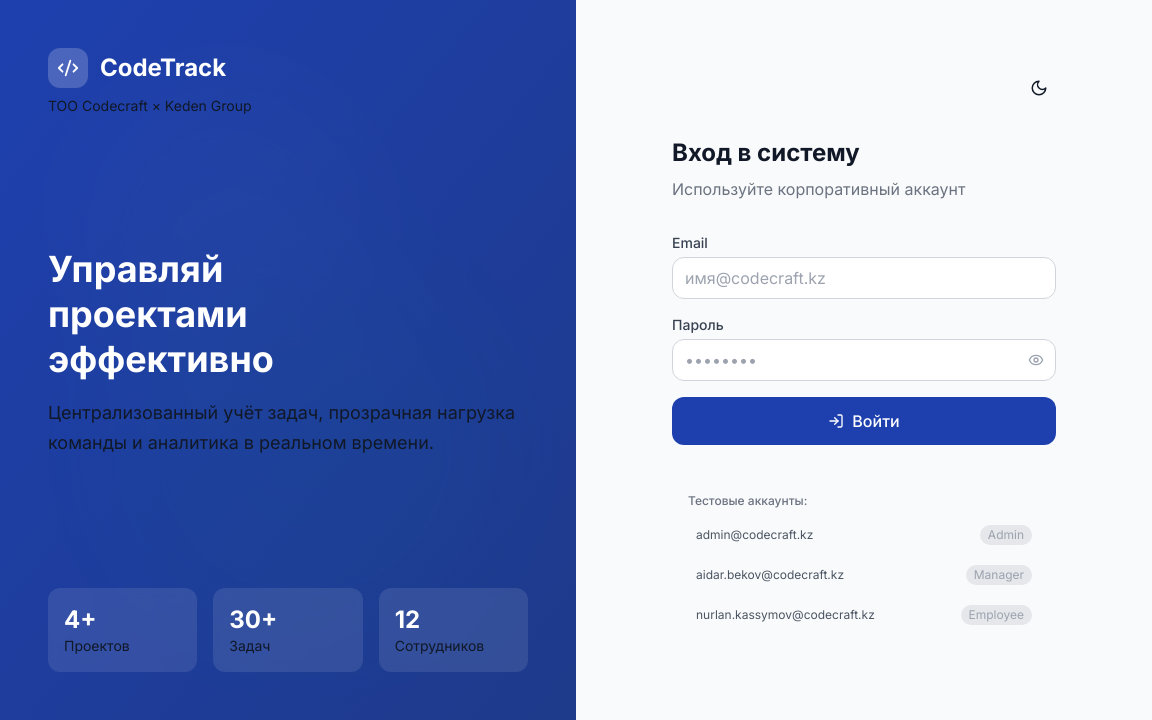
Test: Login page › показывает ошибку при невалидном email
Type "not-an-email" into the field with placeholder "имя@codecraft.kz" at (864, 278), box [672,257,1056,299]
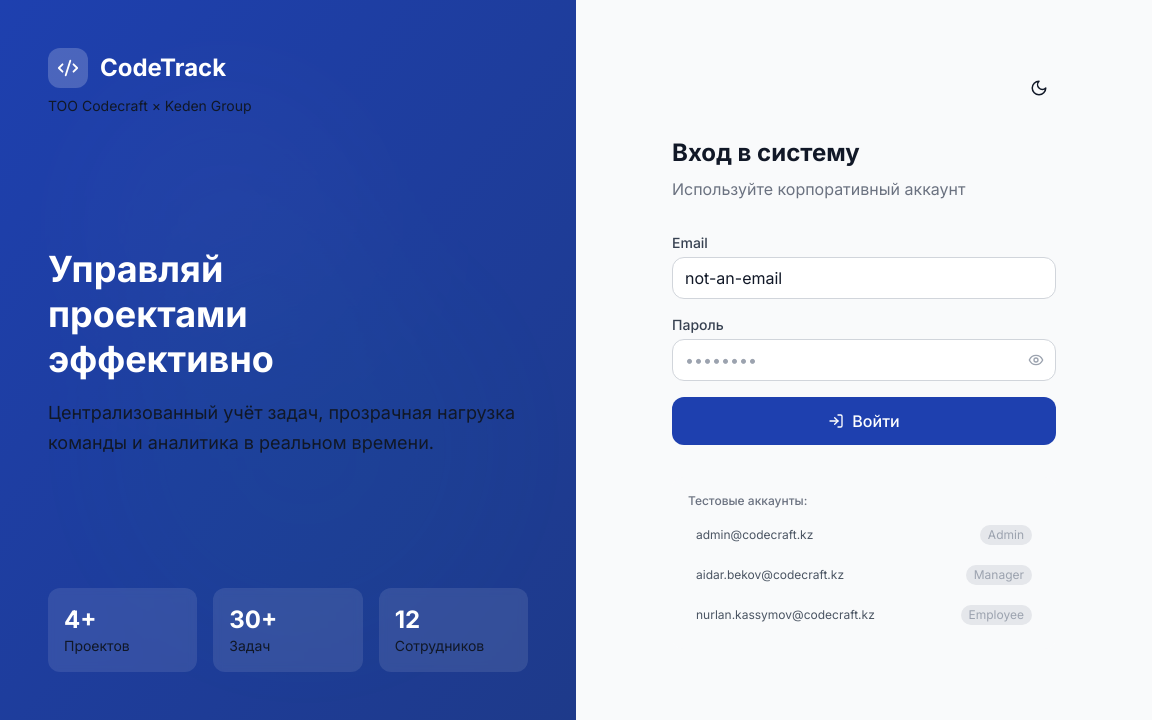
Click the button "Войти" at (864, 421), box [672,397,1056,445]
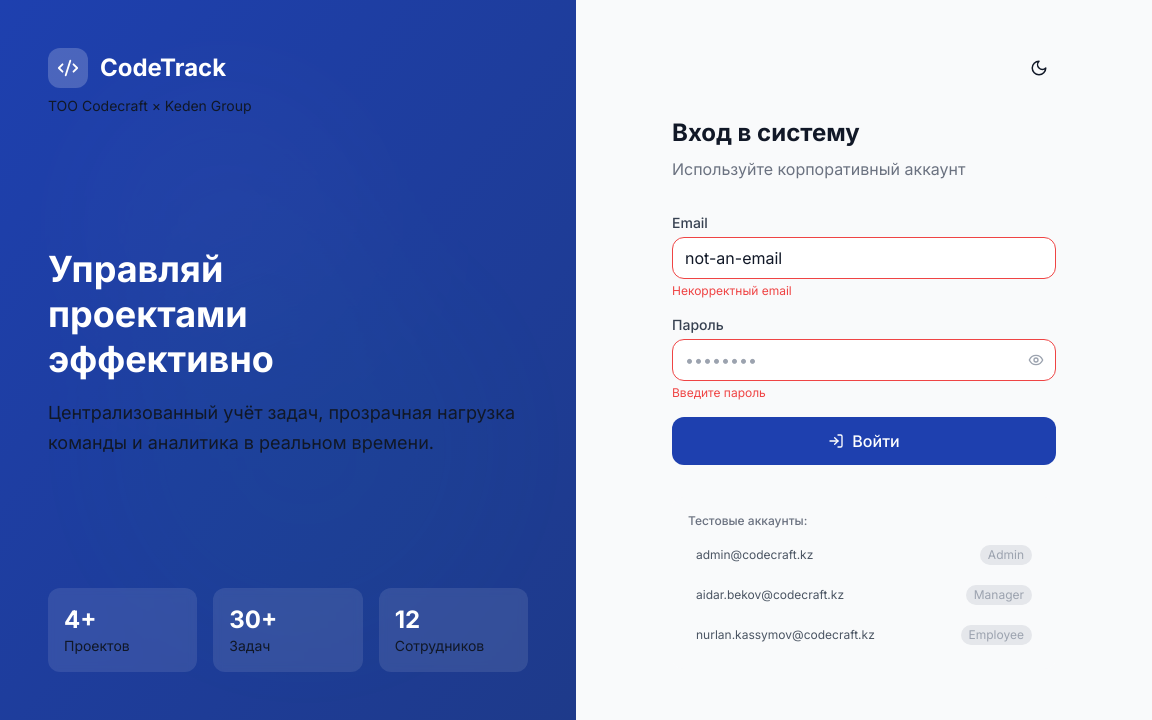
Now the text "Некорректный email" is shown, box [672,283,792,298]
